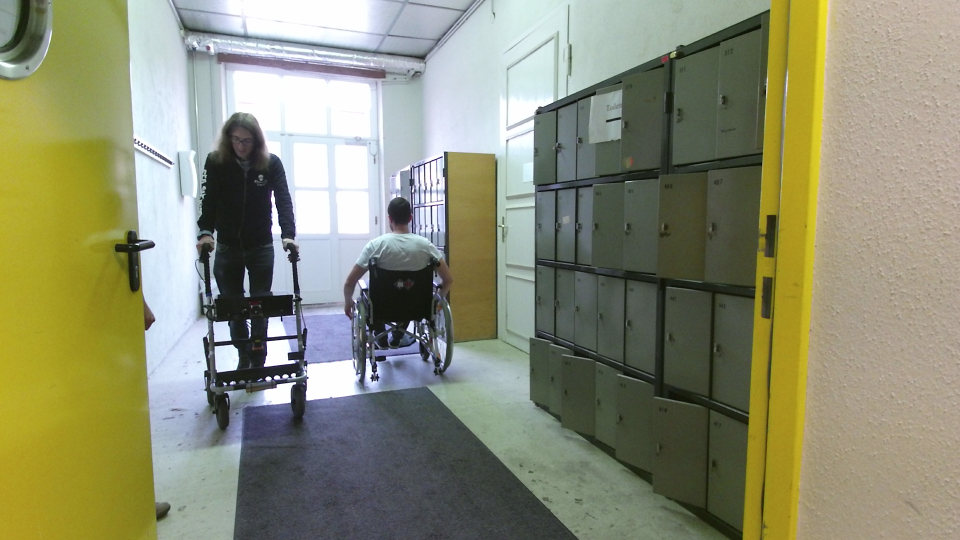wheelchair: (339, 189, 458, 390)
